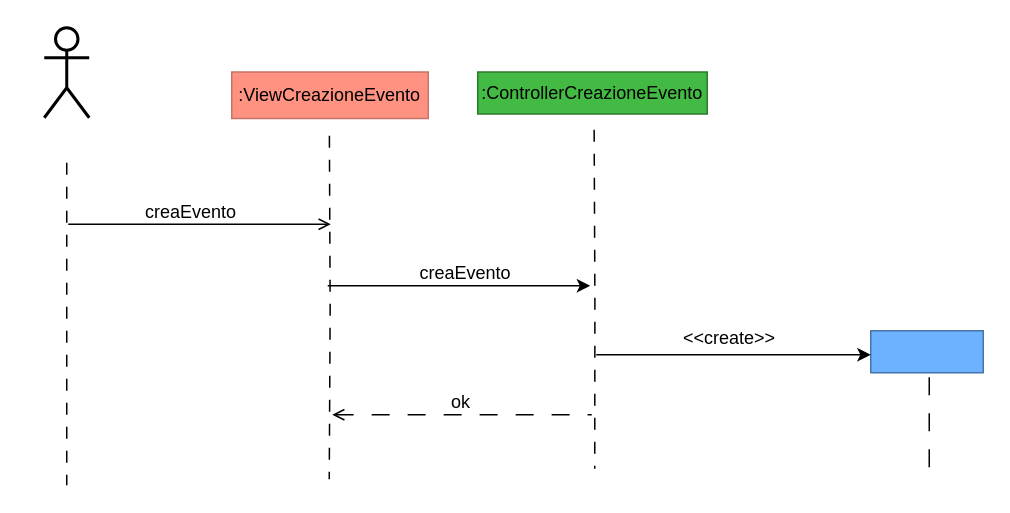
This 1010x513 diagram has some shape labels left out. Each missing label, with the centre of its shape:
":Evento" belongs at pixel 926 351.
"Utente" belongs at pixel 66 72.
